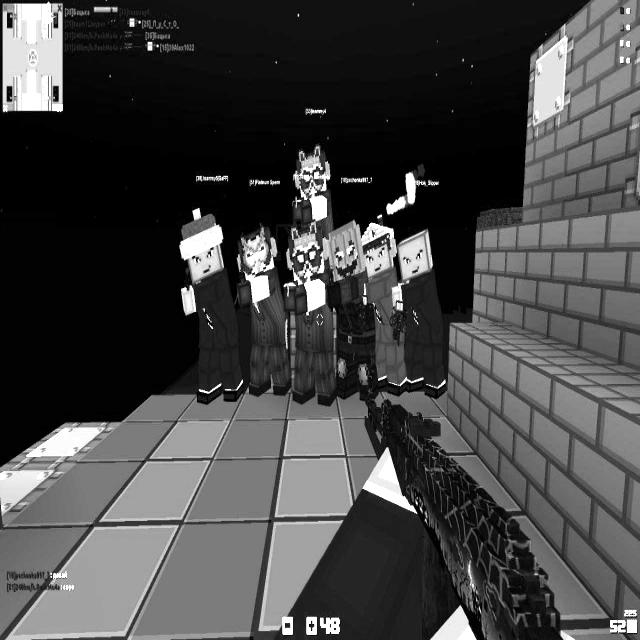Head: (186, 225, 222, 277), (240, 231, 273, 277), (400, 235, 431, 278), (293, 233, 323, 276), (331, 233, 361, 275), (297, 154, 327, 196), (364, 238, 392, 275)
Player: (178, 206, 244, 404), (235, 222, 291, 396), (286, 224, 338, 406), (392, 228, 446, 400), (327, 223, 378, 402), (362, 222, 409, 398), (291, 149, 336, 243)
